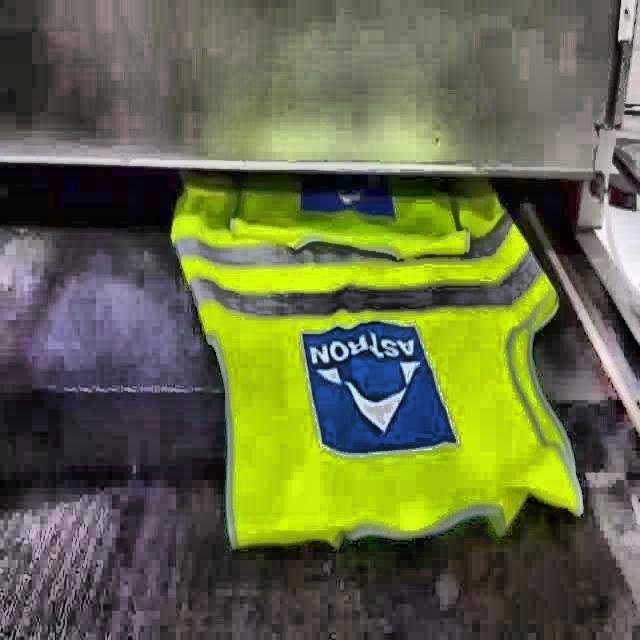safety_jacket: (166, 181, 584, 554)
